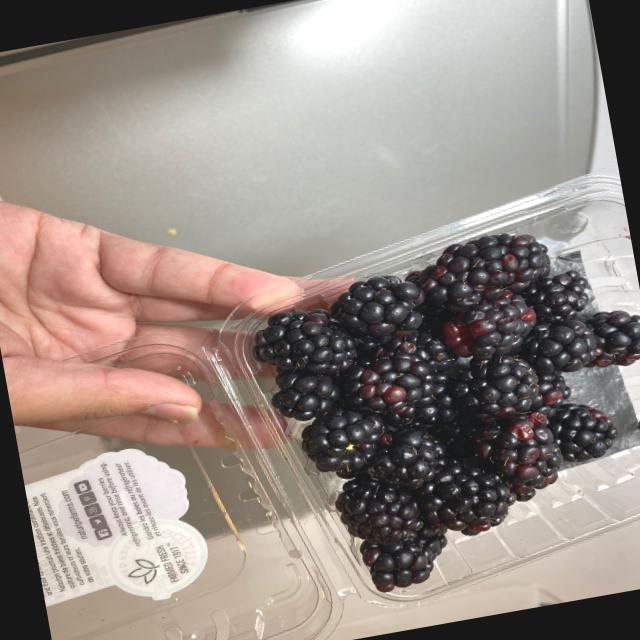blackberries: (274, 210, 640, 611)
